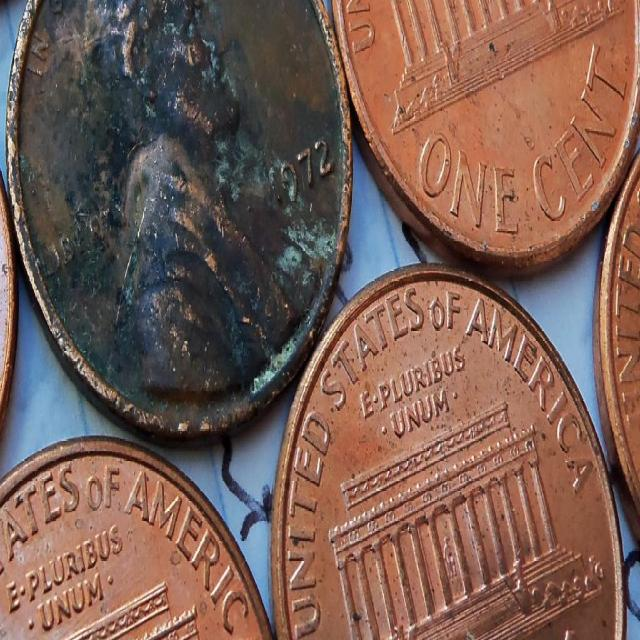Coin: (4, 0, 354, 434), (271, 262, 624, 639), (330, 0, 640, 276), (0, 438, 271, 639), (596, 149, 640, 546), (0, 171, 16, 407)
